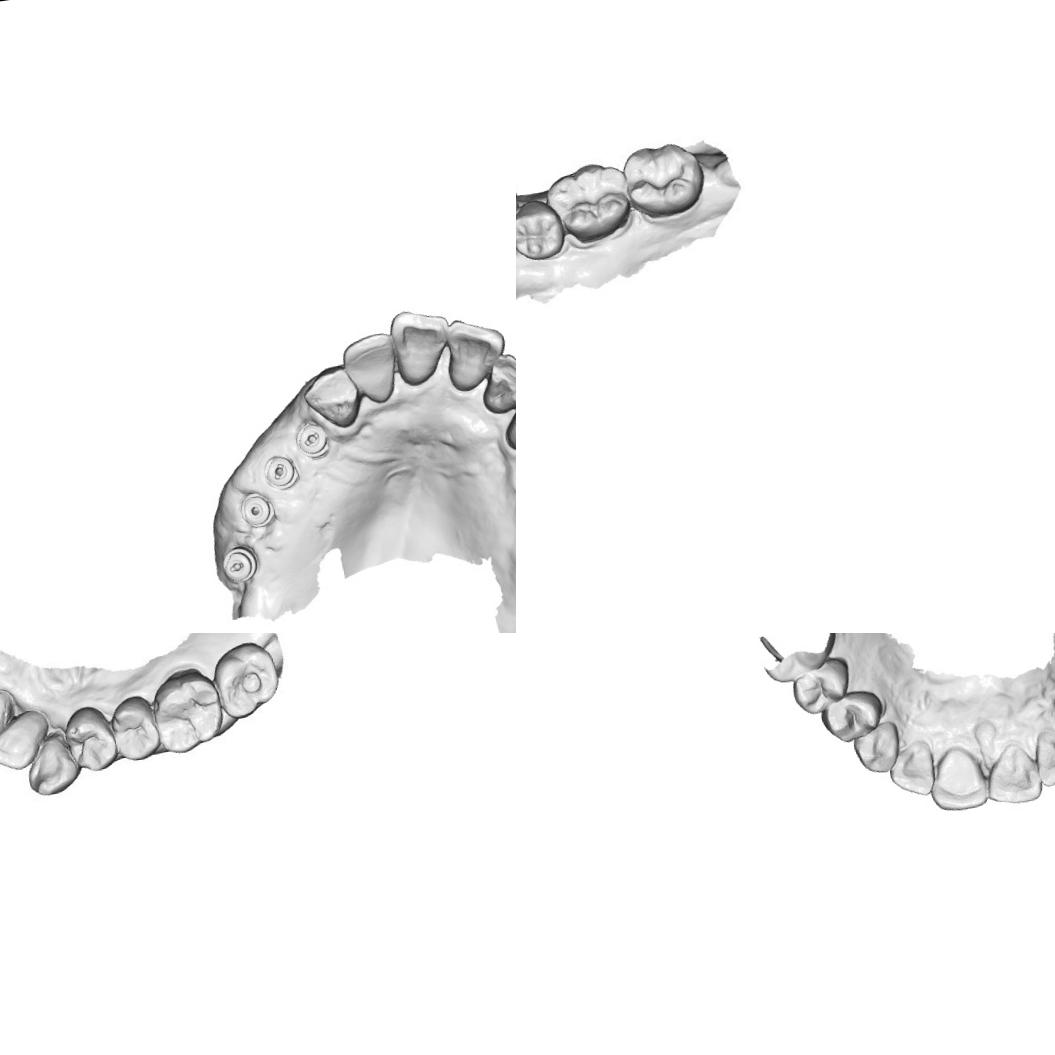canine: (299, 362, 366, 434), (23, 734, 80, 800), (848, 718, 904, 778), (498, 388, 516, 457)
implant: (234, 489, 278, 534)
implant_minus: (218, 542, 262, 588), (290, 418, 331, 463), (260, 450, 302, 492)
incisor: (387, 304, 457, 389), (442, 312, 512, 396), (337, 328, 402, 408), (925, 741, 993, 814), (981, 741, 1045, 807), (884, 737, 940, 800), (0, 712, 47, 774), (474, 348, 516, 415), (1029, 724, 1055, 789), (0, 691, 17, 759)
molar: (545, 160, 636, 242), (150, 664, 228, 757), (622, 138, 705, 218), (207, 637, 281, 724)
premolar: (60, 702, 122, 776), (816, 685, 888, 747), (105, 690, 165, 764), (787, 655, 856, 718), (516, 198, 563, 262)
